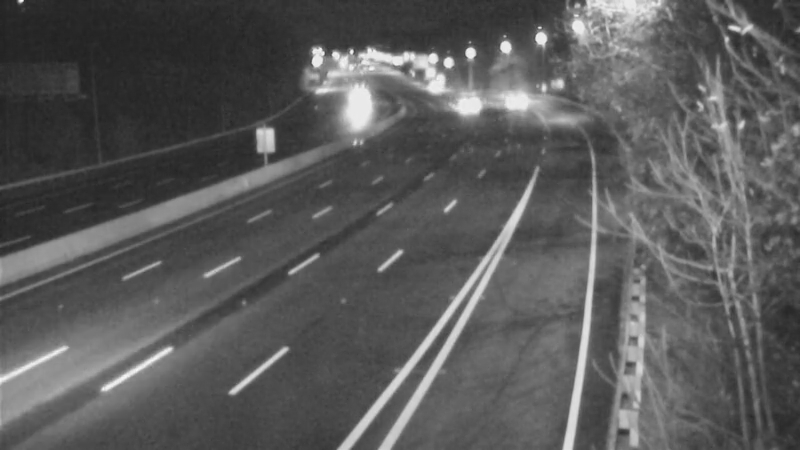vehicle: (407, 61, 457, 111), (480, 75, 530, 125), (437, 78, 487, 128), (331, 77, 381, 127)
